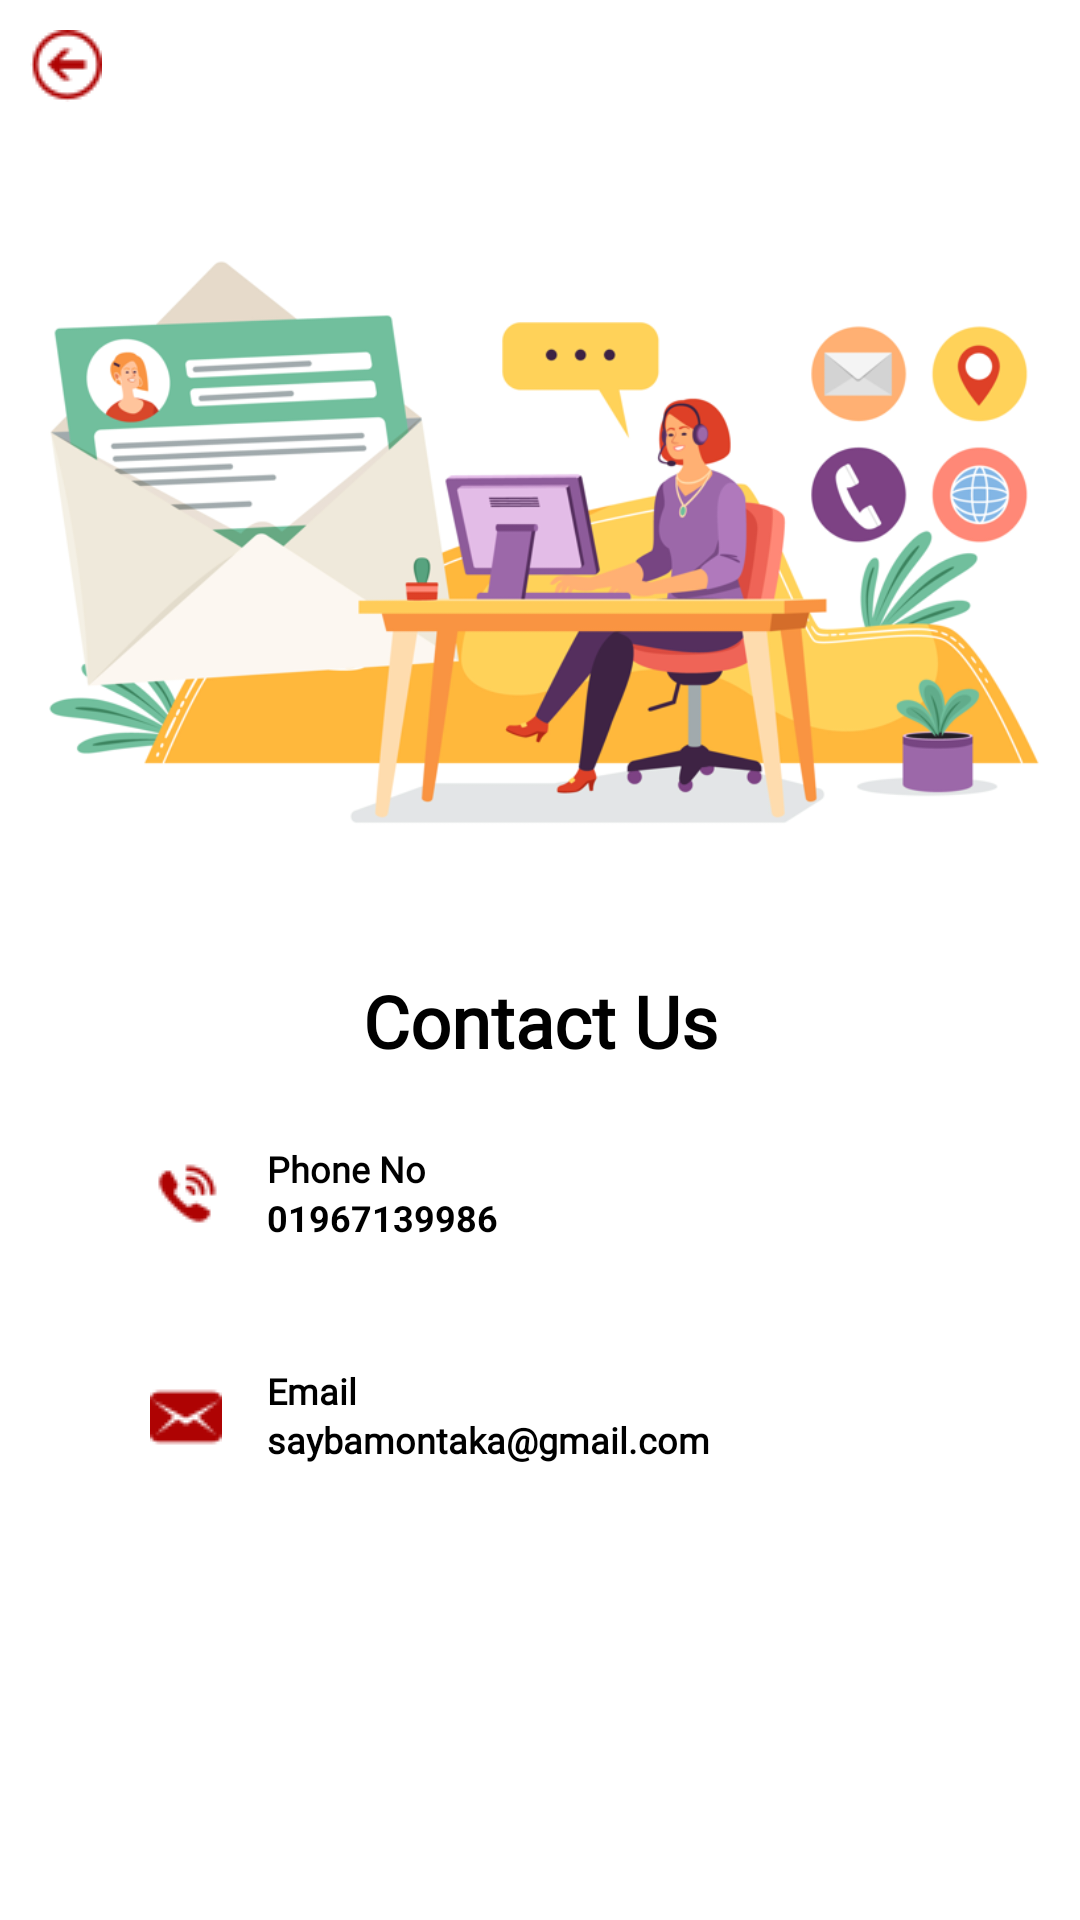

Named icons in this screenshot (1080px x 1920px) and their centers, (x=x, y=y):
backarrow: (x=67, y=65)
call: (x=187, y=1193)
